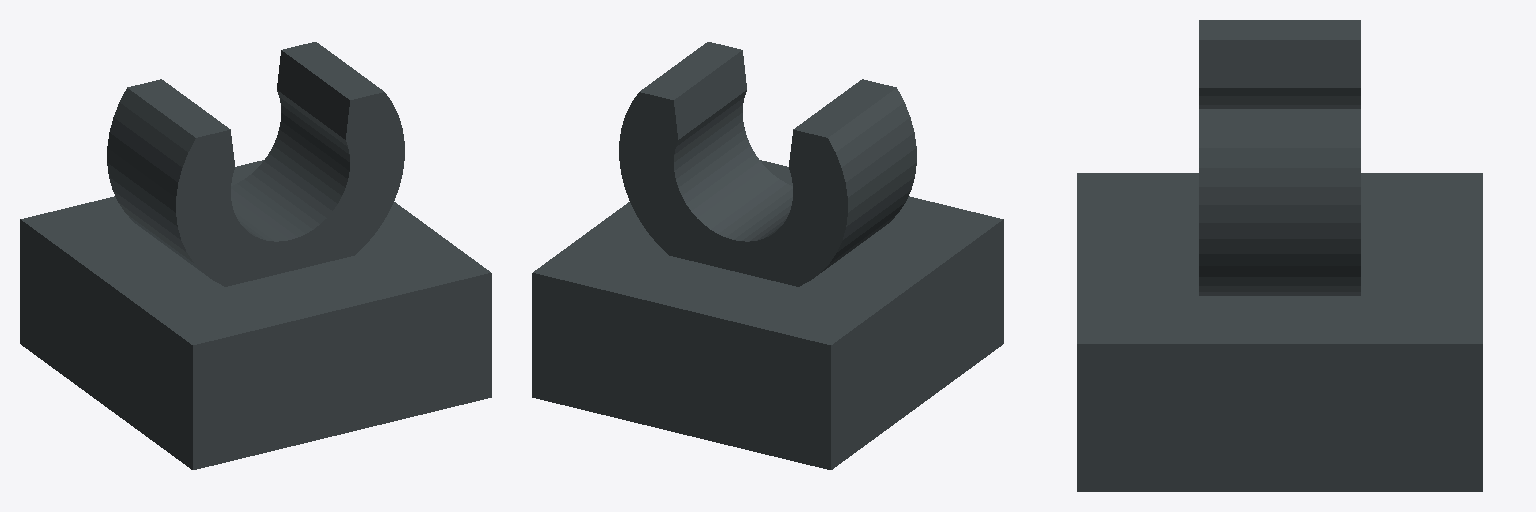
The robot description file, URDF, robot "15712__dark_bluish_gray":
<?xml version="1.0"?>
<robot name="15712__dark_bluish_gray">
  <link name="15712__dark_bluish_gray">
    <inertial>
      <origin xyz="0.000000 0.000000 -0.000235" rpy="0 0 0"/>
      <mass value="0.000376"/>
      <inertia ixx="2.978626565e-09" ixy="-9.497885299e-27" ixz="-3.796781239e-26" iyy="3.109655754e-09" iyz="-0.000000000e+00" izz="3.466246349e-09"/>
    </inertial>
    <visual>
      <geometry>
        <mesh filename="../meshes/visual/15712.obj" scale="1 1 1"/>
      </geometry>
      <material name="15712__dark_bluish_gray_color">
        <color rgba="0.320 0.350 0.360 1.000"/>
      </material>
    </visual>
    <collision>
      <geometry>
        <mesh filename="../meshes/collision/15712_hull.obj" scale="1 1 1"/>
      </geometry>
    </collision>
  </link>
</robot>

--- Facts derived from the render (not from the file) ---
The picture shows the robot from 3 angles, left to right: view 1: azimuth 30°, elevation 25°; view 2: azimuth 150°, elevation 25°; view 3: azimuth 270°, elevation 25°; orthographic projection.
Model 15712__dark_bluish_gray with 1 links and 0 joints (none), rooted at 15712__dark_bluish_gray, posed every joint at zero.
Links seen in each view (by area): view 1: 15712__dark_bluish_gray; view 2: 15712__dark_bluish_gray; view 3: 15712__dark_bluish_gray.
Link boxes in pixels (x1,y1,x2,y2): 15712__dark_bluish_gray: (20, 42, 491, 469); 15712__dark_bluish_gray: (532, 42, 1003, 469); 15712__dark_bluish_gray: (1077, 20, 1482, 491).
Size in the robot's own frame: 0.008 by 0.008 by 0.0072 metres.
1 mesh visuals loaded from 1 distinct referenced files (1 OBJ).
